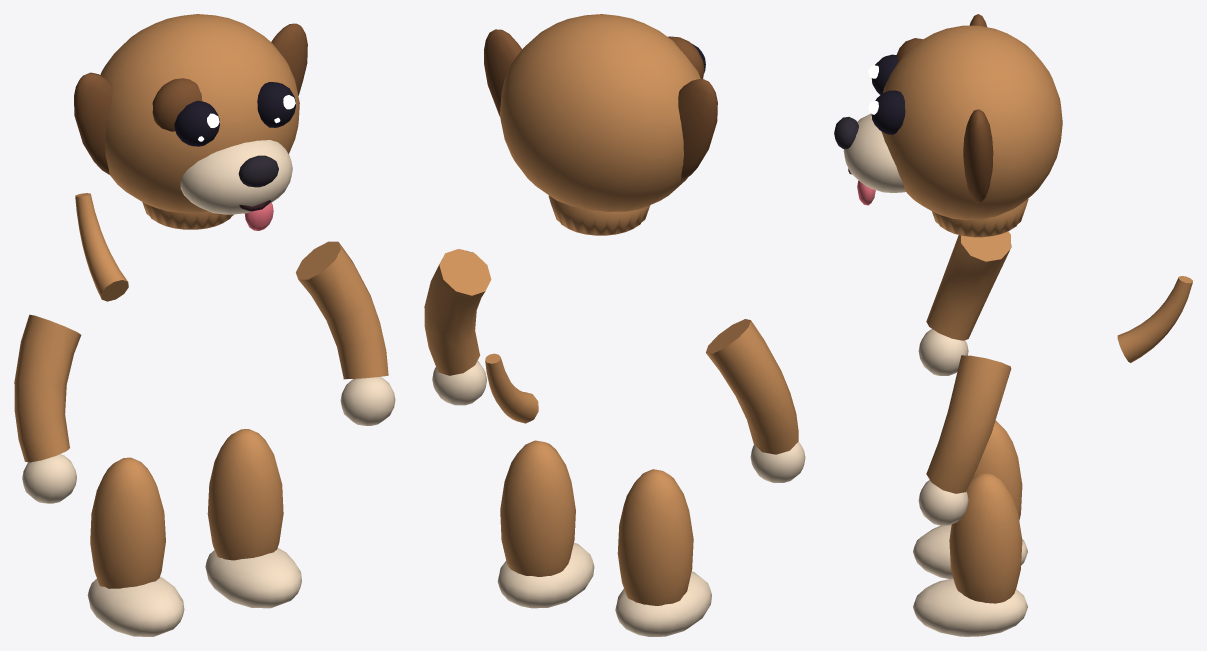
Rendered from tb_dyr_hund.glb.
3 renders of one model, left to right at view 1: azimuth 30°, elevation 25°; view 2: azimuth 150°, elevation 25°; view 3: azimuth 270°, elevation 25°, orthographic. The views are drawn at different scales.
Visible parts, largest first — view 1: hode, bein_vf, bein_hf, vinge_v, vinge_h, hale; view 2: hode, bein_hf, bein_vf, vinge_v, vinge_h, hale; view 3: hode, bein_hf, vinge_h, vinge_v, bein_vf, hale.
Part boxes in pixels (x1,y1,x2,y2): hode: (74, 14, 307, 230); bein_vf: (87, 457, 184, 636); bein_hf: (205, 429, 301, 608); vinge_v: (14, 314, 81, 503); vinge_h: (296, 241, 395, 425); hale: (75, 193, 128, 301); hode: (484, 14, 717, 235); bein_hf: (497, 440, 594, 608); bein_vf: (615, 469, 711, 636); vinge_v: (706, 319, 805, 482); vinge_h: (424, 249, 491, 405); hale: (485, 353, 538, 423); hode: (834, 14, 1062, 237); bein_hf: (913, 473, 1027, 636); vinge_h: (918, 355, 1011, 525); vinge_v: (918, 231, 1011, 375); bein_vf: (913, 420, 1027, 579); hale: (1117, 276, 1192, 362).
Size of the model in its own units: 1.06 by 1.63 by 0.9335.
